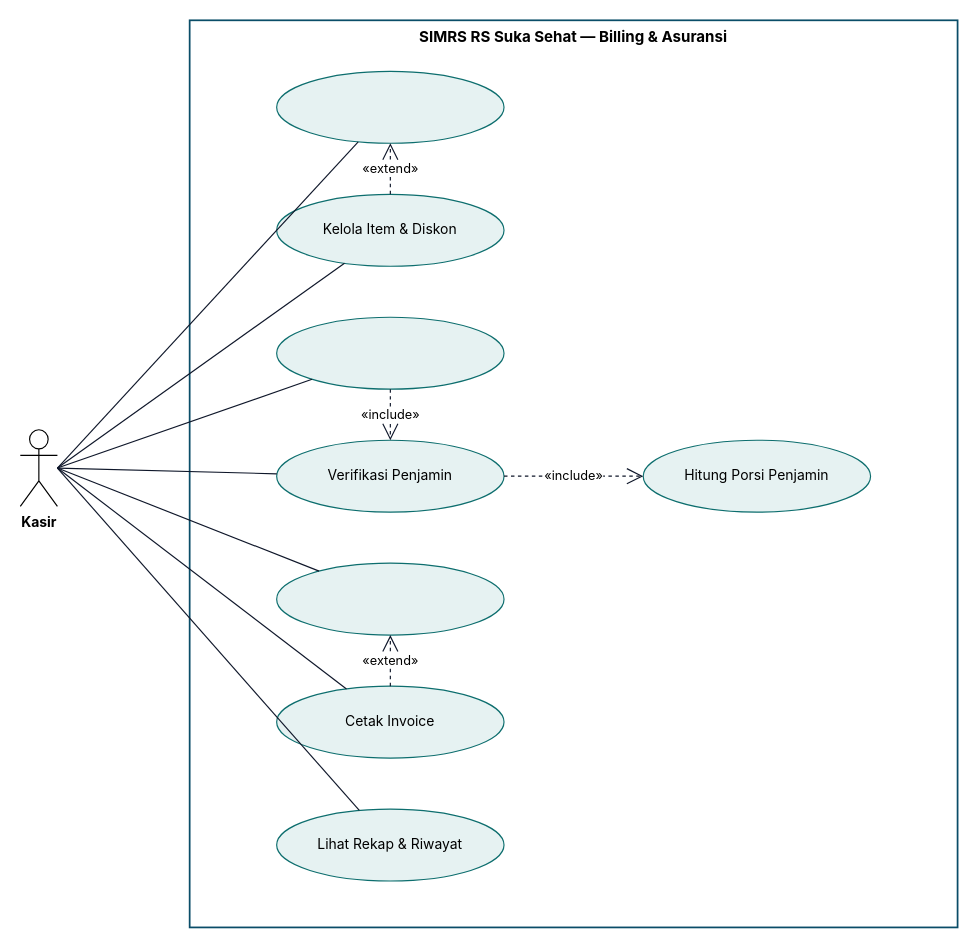
The diagram is 979 pixels wide and 949 high, and some of its shapes have lost their labels. The centre of each missing label's shape, as x and y in pixels:
"Ajukan & Pantau Klaim" goes at pixel 390 352.
"Buat Tagihan Otomatis" goes at pixel 390 106.
"Terima Pembayaran" goes at pixel 390 598.
